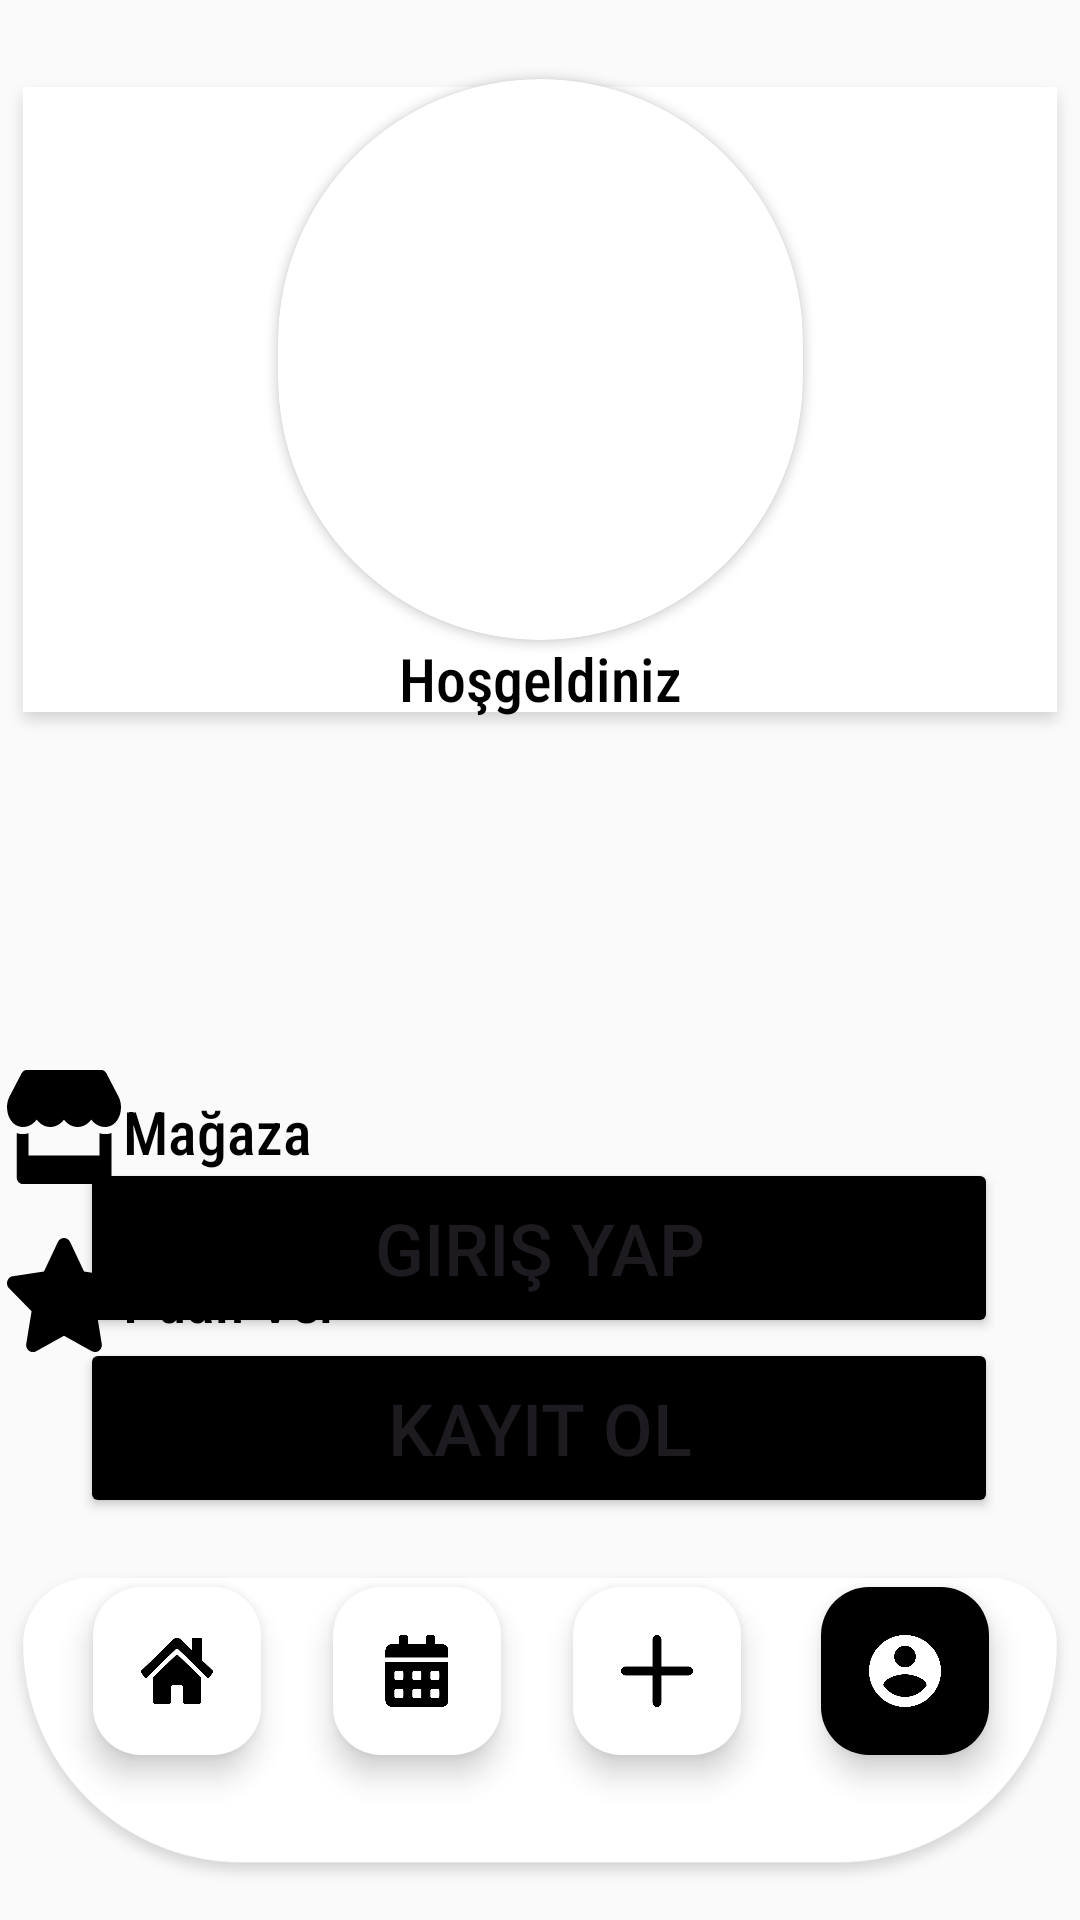

Icons on this 1080px x 1920px Android screen, each with the point to tap as (x,y):
calendar: (443,1676)
star: (64,1295)
